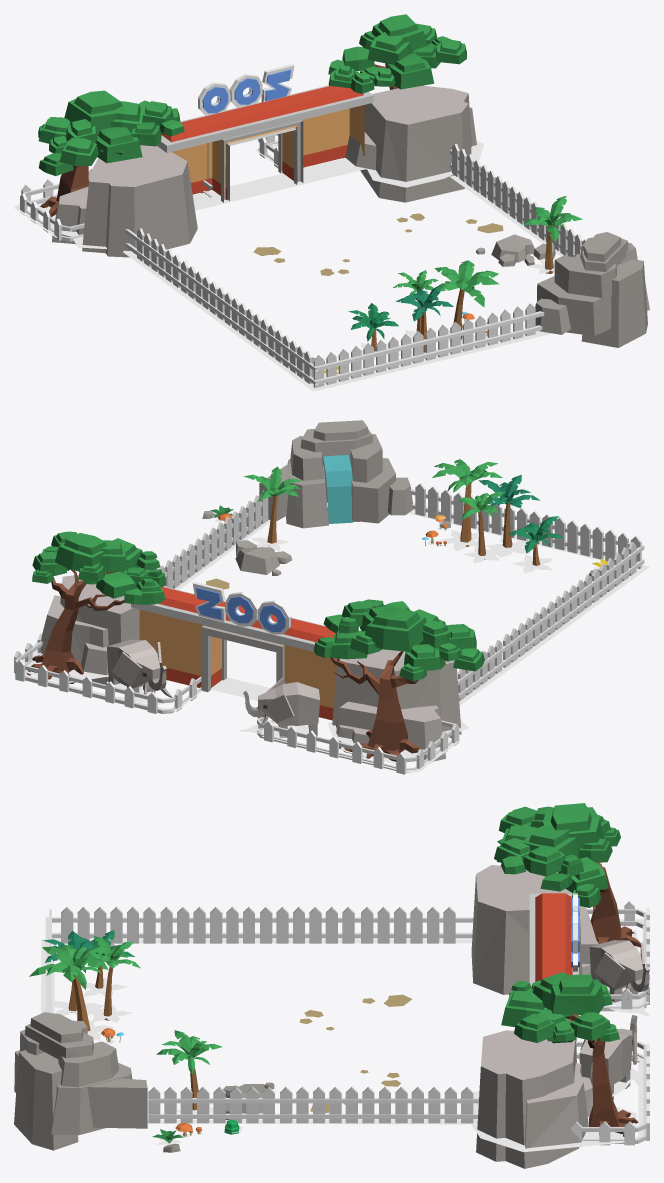
File: Little_end02.FBX
3 renders of one model, top to bottom at view 1: azimuth 30°, elevation 25°; view 2: azimuth 150°, elevation 25°; view 3: azimuth 270°, elevation 25°, orthographic. The views are drawn at different scales.
Visible parts, largest first — view 1: Little_end02; view 2: Little_end02; view 3: Little_end02.
Boxes of the visible parts, x1,y1,x2,y2 form: Little_end02: [14, 14, 649, 391]; Little_end02: [14, 420, 649, 774]; Little_end02: [14, 803, 649, 1168].
Size of the model in its own units: 7185 by 2227 by 7987.
